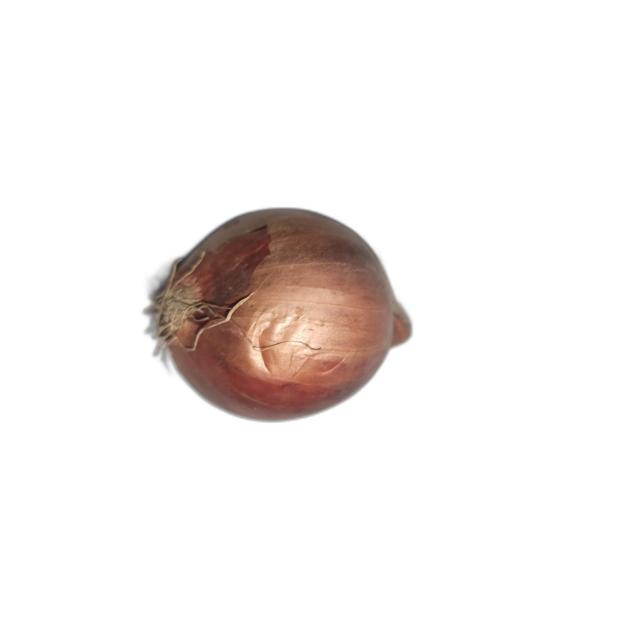onion: (148, 208, 412, 423)
